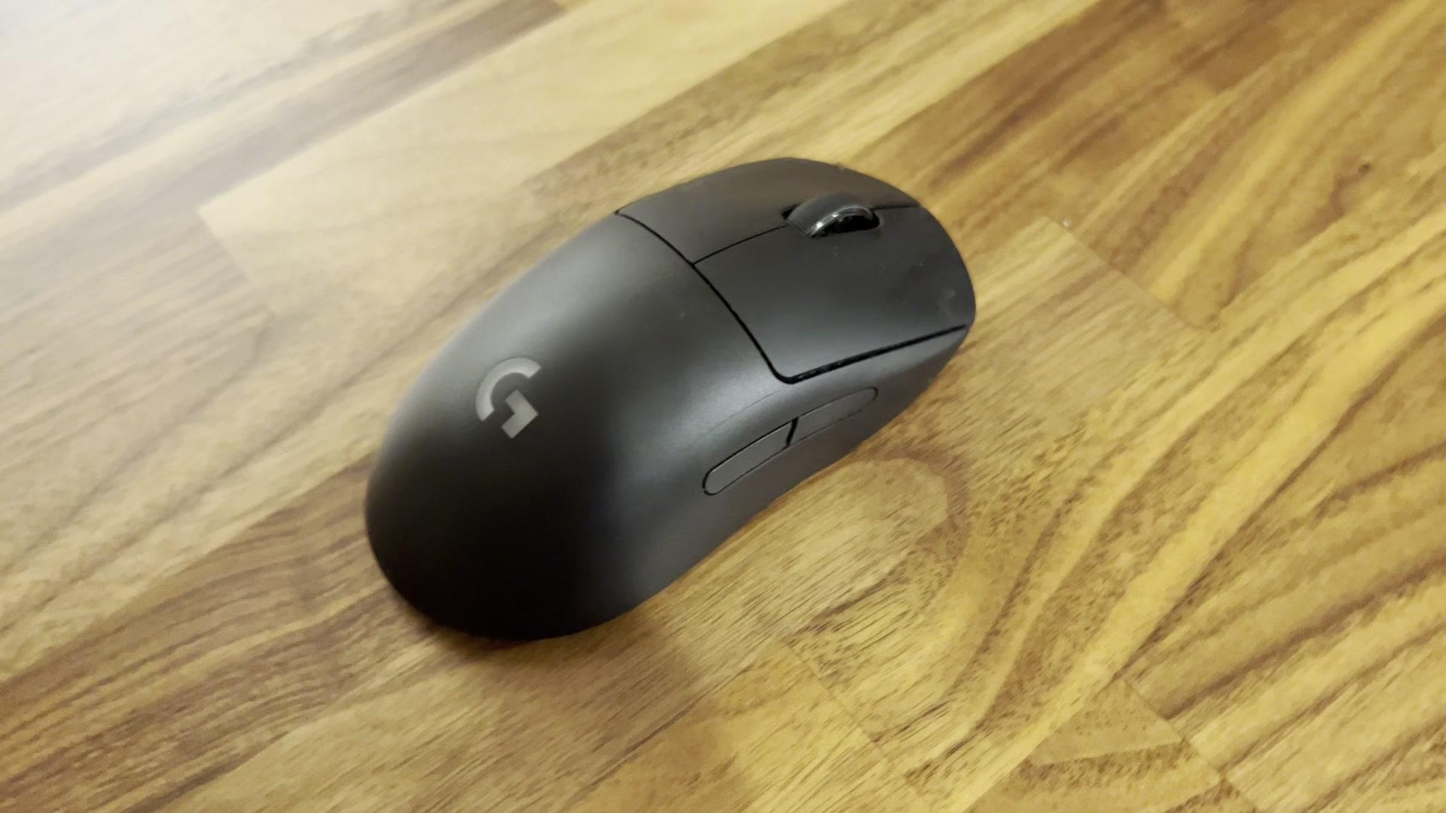logicool: (361, 151, 978, 655)
